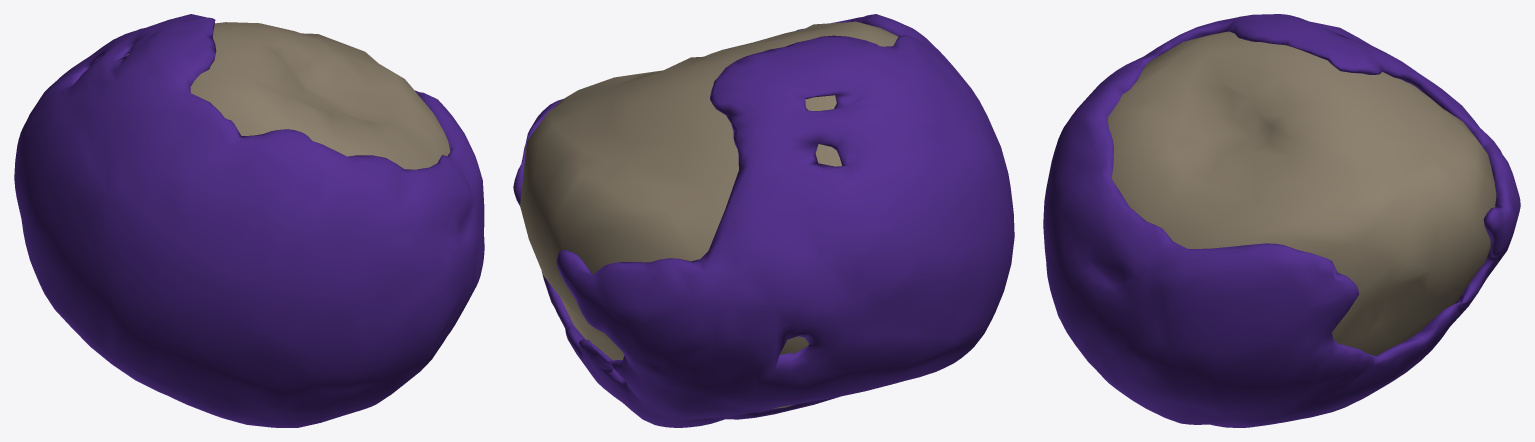
Rendered from iLDL_1.dae.
3 views of the same model, side by side, from view 1: azimuth 30°, elevation 25°; view 2: azimuth 150°, elevation 25°; view 3: azimuth 270°, elevation 25° (orthographic). The views are drawn at different scales.
Visible parts, largest first — view 1: _5241IsoSurface4.053, iLDL; view 2: _5241IsoSurface4.053, iLDL; view 3: iLDL, _5241IsoSurface4.053.
Part boxes in pixels (<box>): _5241IsoSurface4.053: <box>14,14,484,427</box>; iLDL: <box>126,22,450,169</box>; _5241IsoSurface4.053: <box>513,14,1014,427</box>; iLDL: <box>520,21,898,408</box>; iLDL: <box>1108,31,1496,355</box>; _5241IsoSurface4.053: <box>1043,14,1520,427</box>.
Size of the model in its own units: 200 by 174 by 216.
